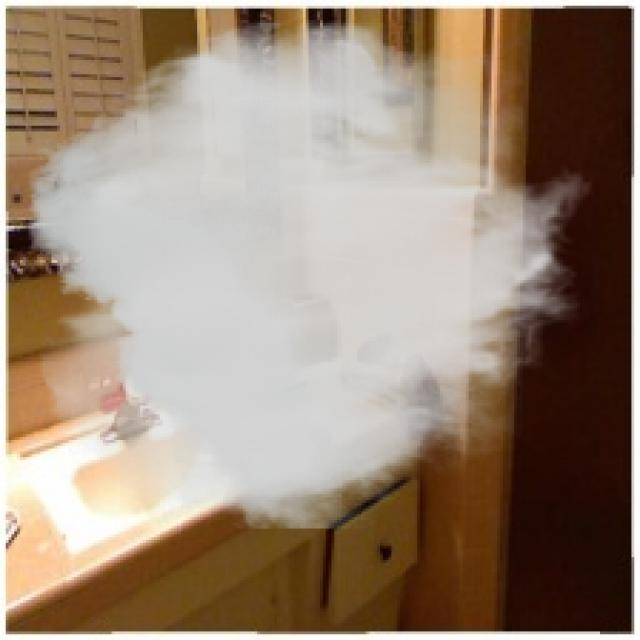smoke: (29, 14, 594, 529)
